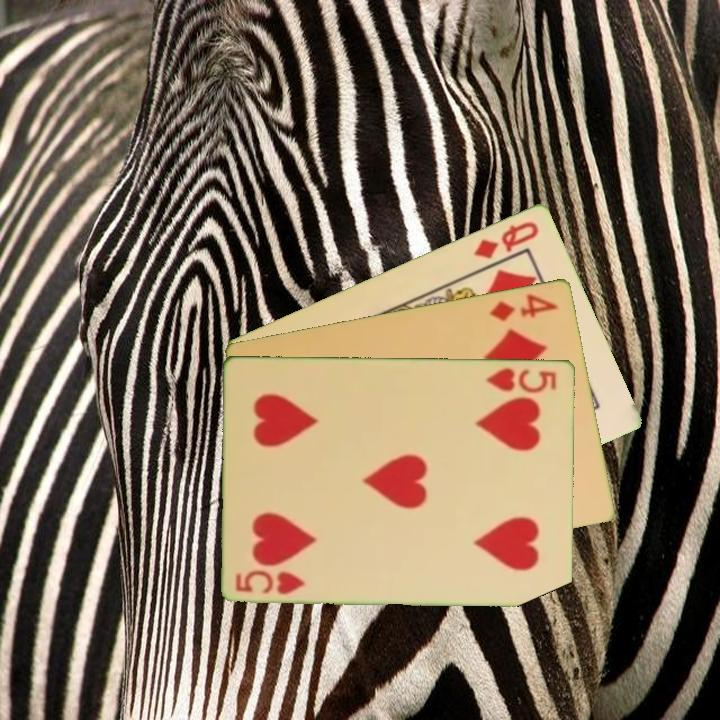4d: (486, 289, 561, 323)
5h: (482, 364, 560, 396), (232, 566, 308, 597)
Qd: (470, 217, 543, 262)
